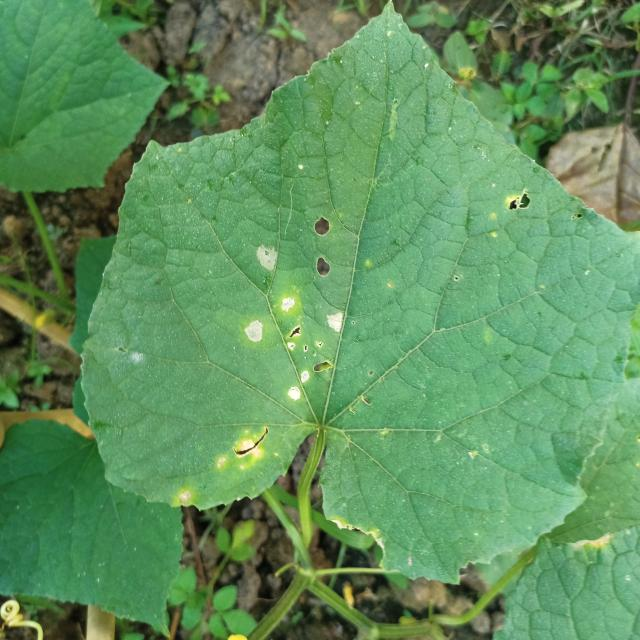disease_cucumber: (237, 234, 357, 406)
